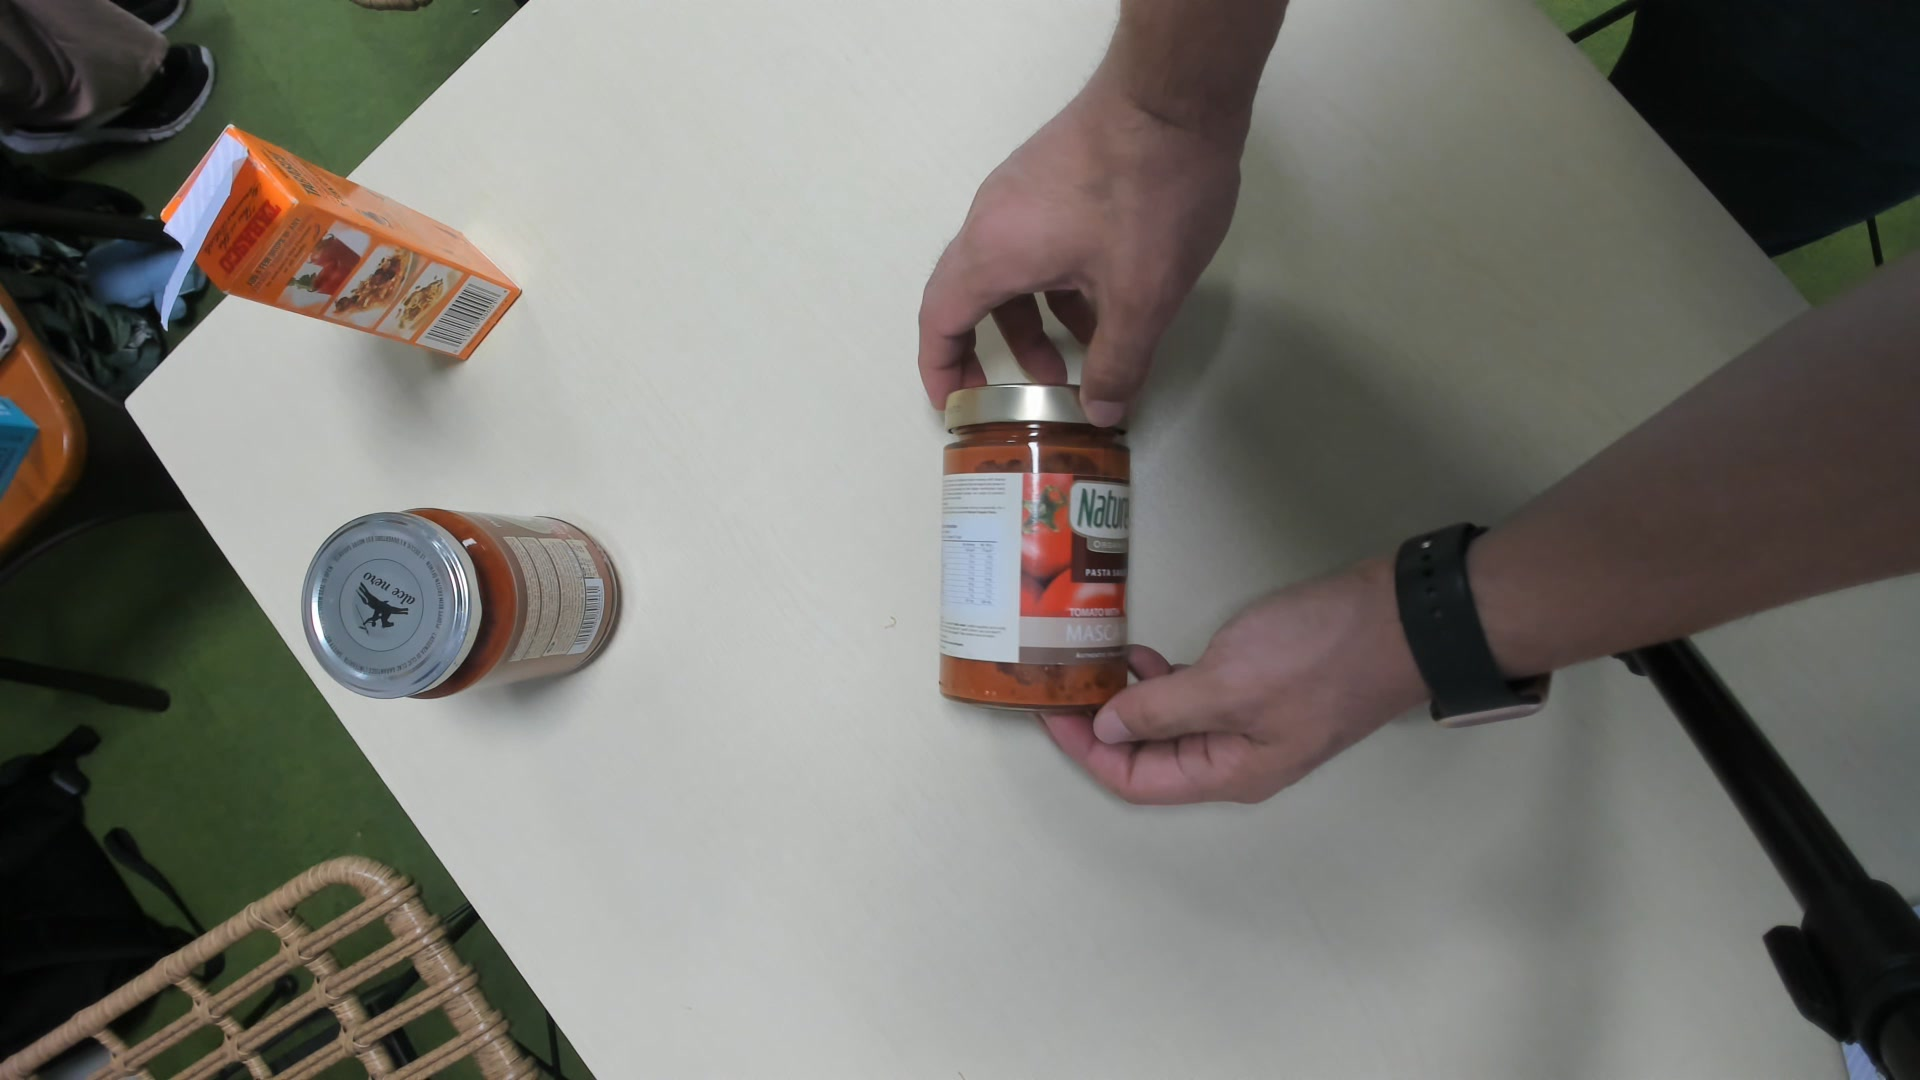PastaSauce_300-399g_NonHalal_NonHealthy: (936, 381, 1134, 715)
